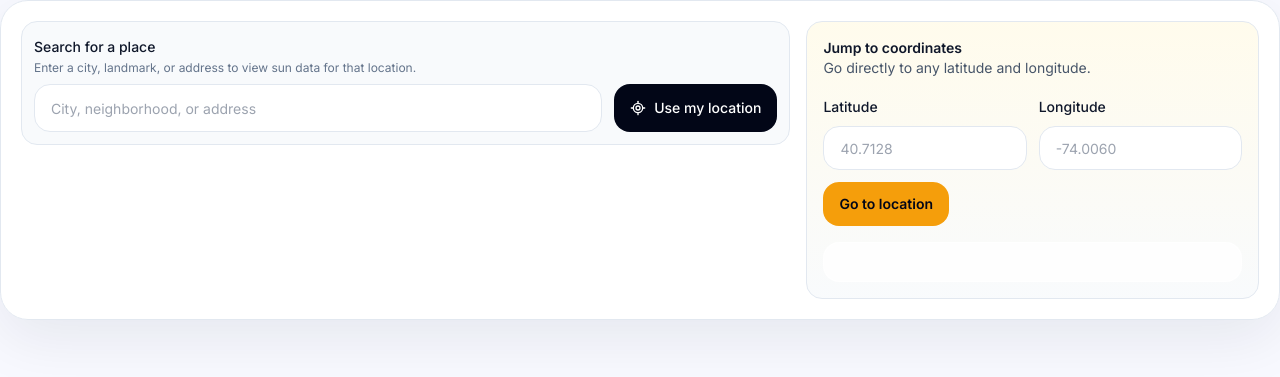
SearchBar › shows a fallback message when geolocation is denied
The width and height of the screenshot is (1280, 377).
Click the button "Use my location" at (696, 108), box [614,84,777,132]
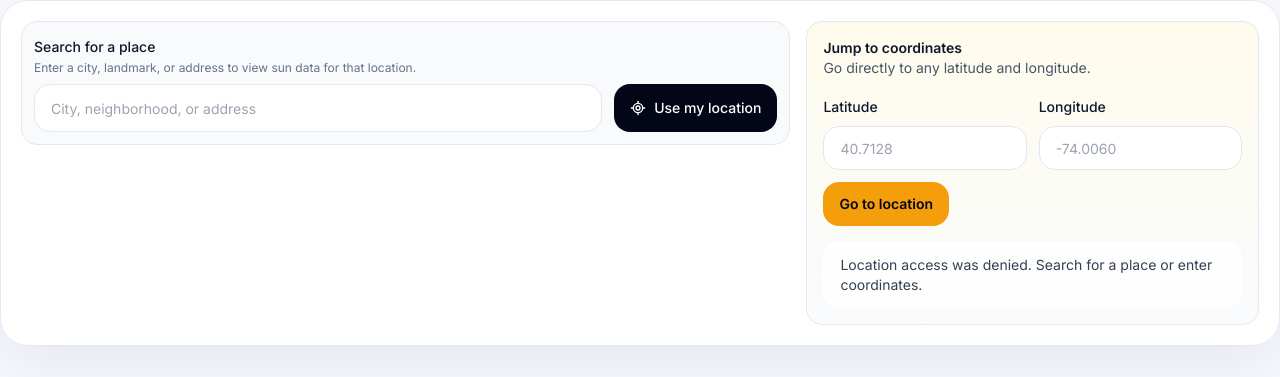
Now the text "Location access was denied. Search for a place or enter coordinates." is shown, box [840,255,1225,295]
